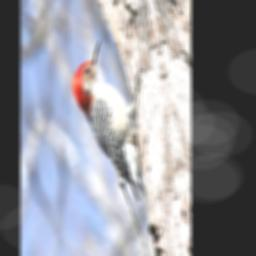Woodpecker: (63, 18, 170, 231)
